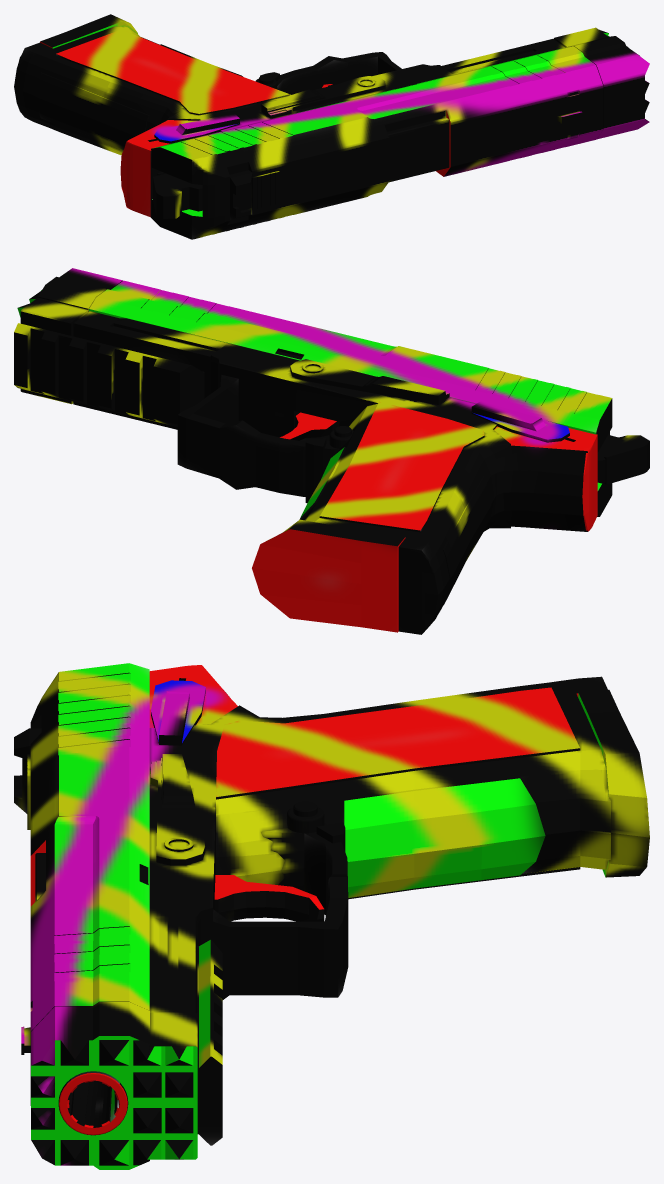
File: pistol_3.glb
3 views of the same model, one above another, from view 1: azimuth 30°, elevation 25°; view 2: azimuth 150°, elevation 25°; view 3: azimuth 270°, elevation 25° (orthographic). The views are drawn at different scales.
Parts seen in each view (by area): view 1: Asset3DLoader.sceneRoot; view 2: Asset3DLoader.sceneRoot; view 3: Asset3DLoader.sceneRoot.
Boxes of the visible parts, bbox=[...] form: Asset3DLoader.sceneRoot: bbox=[14, 14, 649, 239]; Asset3DLoader.sceneRoot: bbox=[14, 268, 649, 634]; Asset3DLoader.sceneRoot: bbox=[14, 663, 649, 1169].
Size of the model in its own units: 19.76 by 3.22 by 13.4.
1 material, 1 textured.
